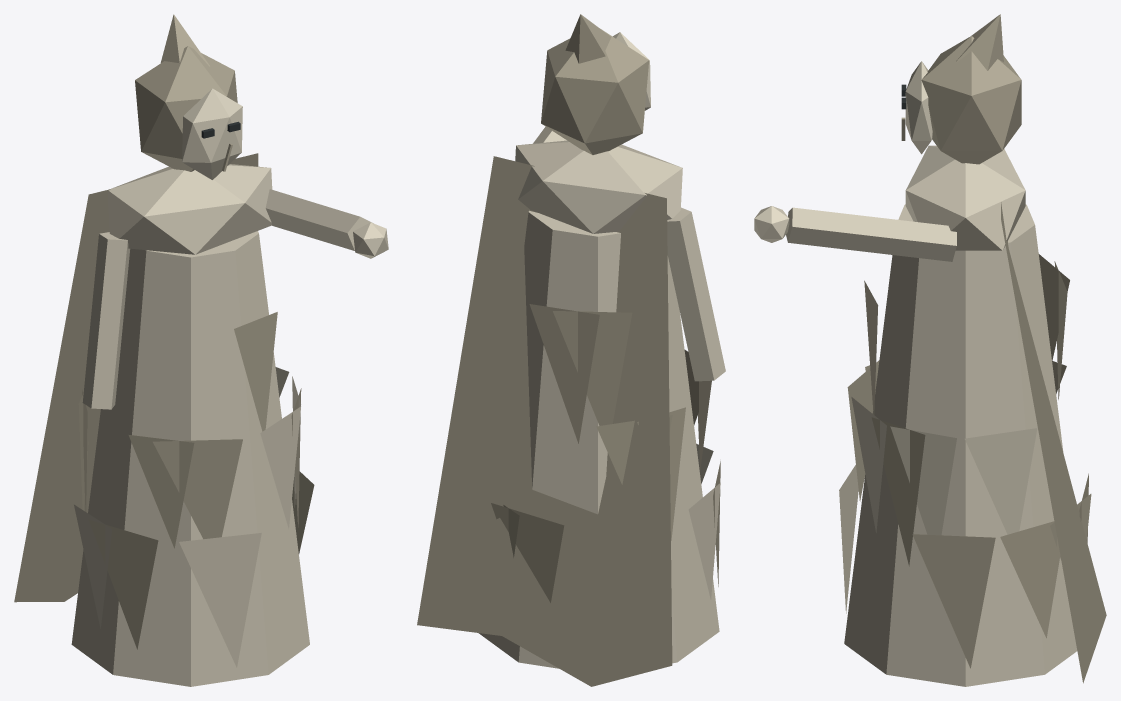
The model's file is white_shepherd.glb.
The picture shows the model from 3 angles, left to right: view 1: azimuth 30°, elevation 25°; view 2: azimuth 150°, elevation 25°; view 3: azimuth 270°, elevation 25°; orthographic projection.
Visible parts, largest first — view 1: ragged robe, trailing cloak, rag shoulders, deep hood, hanging arm, hanging rag.013, hanging rag.012, hanging rag.010, white mask, outstretched arm, hanging rag.011, hanging rag.014 (+5 smaller); view 2: trailing cloak, ragged robe, rag shoulders, deep hood, hanging arm, hanging rag.006, hanging rag.005, hanging rag.004, hanging rag.009, hood peak, hanging rag.007, hanging rag.008 (+2 smaller); view 3: ragged robe, deep hood, rag shoulders, trailing cloak, outstretched arm, hanging rag, hanging rag.001, hanging rag.002, hanging rag.017, hanging rag.016, hanging rag.015, white mask (+7 smaller).
Part boxes in pixels (bbox=[...]): ragged robe: bbox=[71, 231, 309, 686]; trailing cloak: bbox=[14, 153, 258, 602]; rag shoulders: bbox=[107, 164, 272, 254]; deep hood: bbox=[135, 46, 237, 171]; hanging arm: bbox=[82, 232, 130, 409]; hanging rag.013: bbox=[179, 533, 261, 667]; hanging rag.012: bbox=[153, 439, 242, 539]; hanging rag.010: bbox=[88, 520, 158, 649]; white mask: bbox=[182, 88, 242, 179]; outstretched arm: bbox=[265, 189, 373, 250]; hanging rag.011: bbox=[128, 435, 194, 548]; hanging rag.014: bbox=[234, 312, 277, 431]; trailing cloak: bbox=[417, 156, 672, 686]; ragged robe: bbox=[478, 210, 719, 668]; rag shoulders: bbox=[515, 140, 682, 233]; deep hood: bbox=[541, 29, 649, 154]; hanging arm: bbox=[667, 207, 725, 381]; hanging rag.006: bbox=[553, 311, 632, 425]; hanging rag.005: bbox=[529, 304, 599, 443]; hanging rag.004: bbox=[491, 503, 564, 602]; hanging rag.009: bbox=[688, 483, 720, 599]; hood peak: bbox=[565, 14, 611, 63]; hanging rag.007: bbox=[596, 415, 672, 484]; hanging rag.008: bbox=[637, 407, 685, 540]; ragged robe: bbox=[844, 204, 1077, 686]; deep hood: bbox=[921, 36, 1021, 164]; rag shoulders: bbox=[905, 145, 1025, 250]; trailing cloak: bbox=[1001, 202, 1106, 683]; outstretched arm: bbox=[786, 207, 956, 261]; hanging rag: bbox=[912, 534, 995, 668]; hanging rag.001: bbox=[965, 428, 1037, 534]; hanging rag.002: bbox=[1000, 521, 1060, 638]; hanging rag.017: bbox=[890, 426, 956, 535]; hanging rag.016: bbox=[871, 417, 925, 566]; hanging rag.015: bbox=[851, 397, 886, 532]; white mask: bbox=[905, 61, 932, 154].
Size of the model in its own units: 0.49 by 1.17 by 0.5998.
